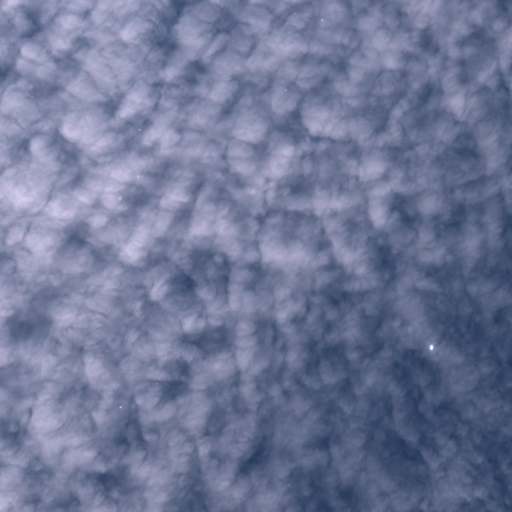Iceberg: (429, 344, 433, 350), (321, 19, 323, 21), (118, 197, 121, 198), (285, 89, 286, 91), (138, 129, 140, 130), (119, 406, 121, 407), (137, 176, 138, 177)
